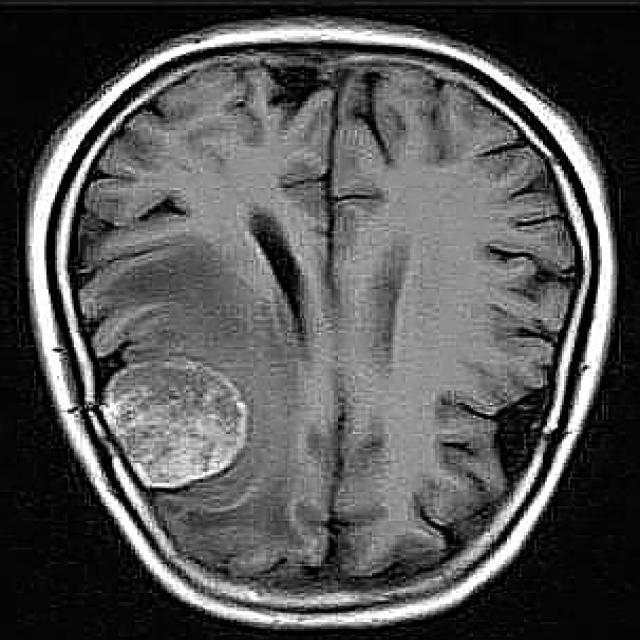Tumor-Cell: (88, 348, 246, 495)
